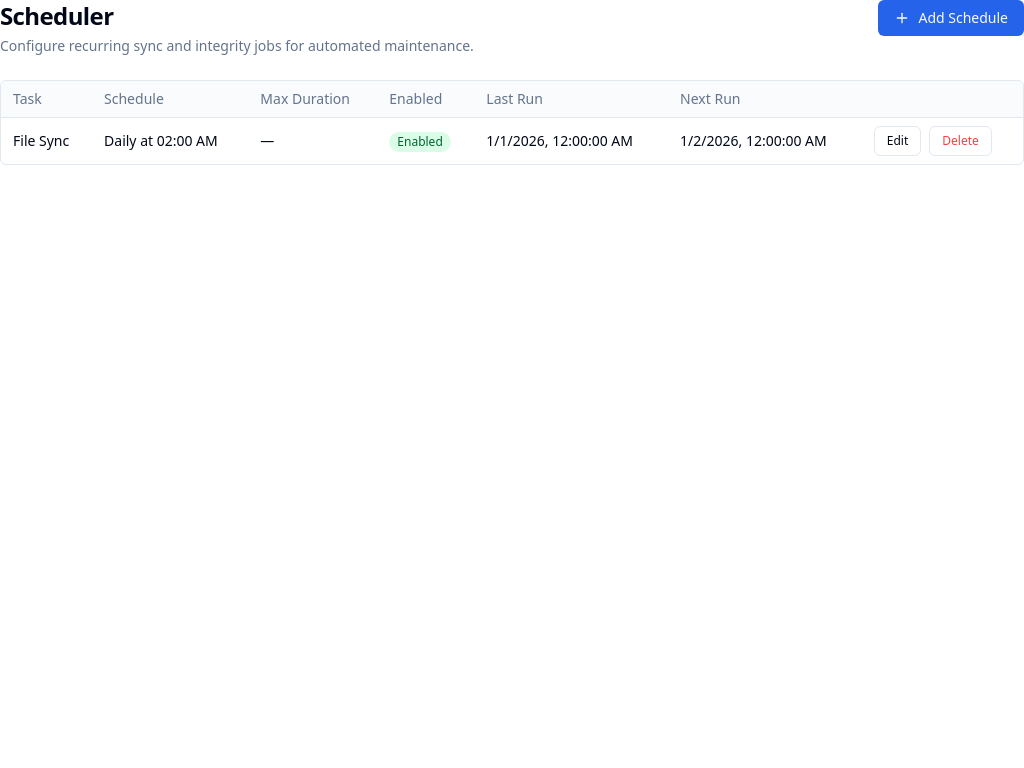
Test: SchedulerPage › converts interval units correctly (2 hours = 7200 seconds)
Expected: the row with test id "schedule-row-1" is shown, x1=1 y1=118 x2=1023 y2=164
Click the button "Add Schedule". click: (951, 18)
box: x1=878 y1=0 x2=1023 y2=36
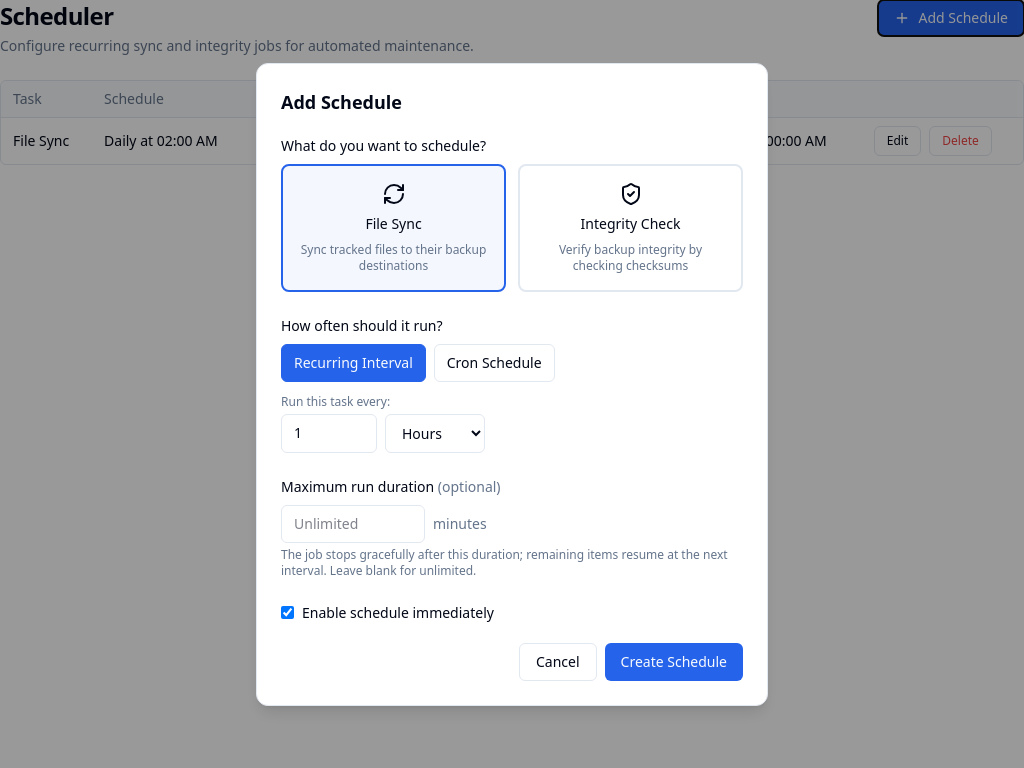
Replace the text in the number field named "Interval value" with "2". click: (329, 433)
box: x1=281 y1=414 x2=377 y2=452
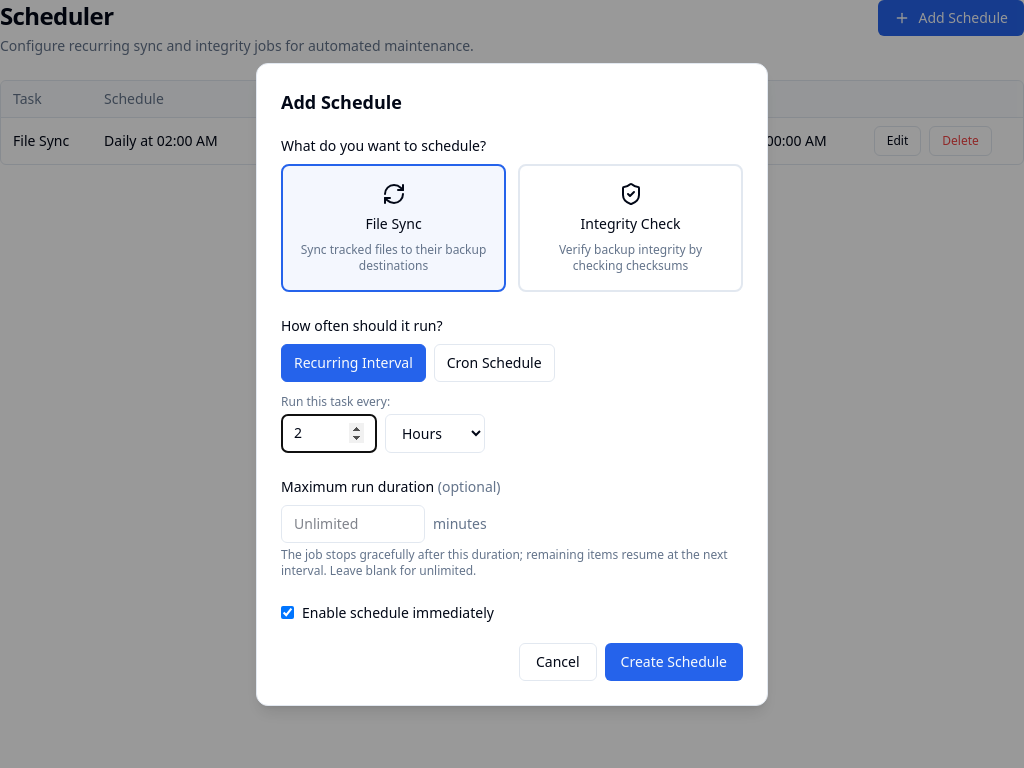
Select "Hours" in the dropdown named "Interval unit". click: (435, 433)
box: x1=385 y1=414 x2=485 y2=452
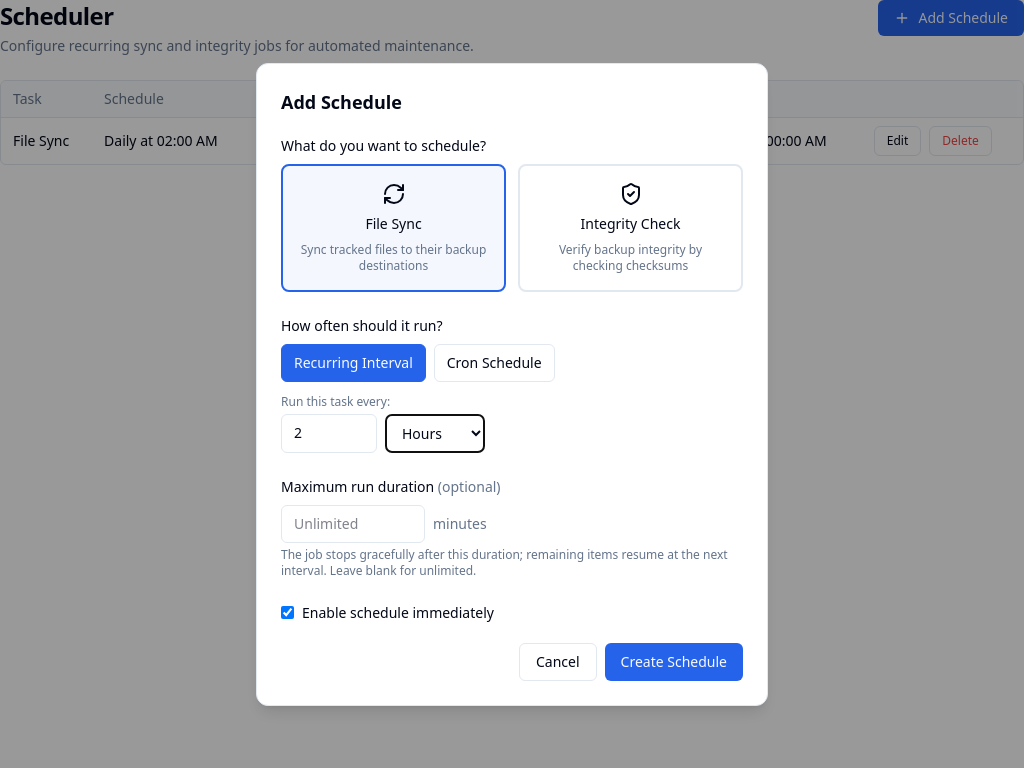
Click the button "Create Schedule". click: (674, 662)
box: x1=605 y1=642 x2=743 y2=680
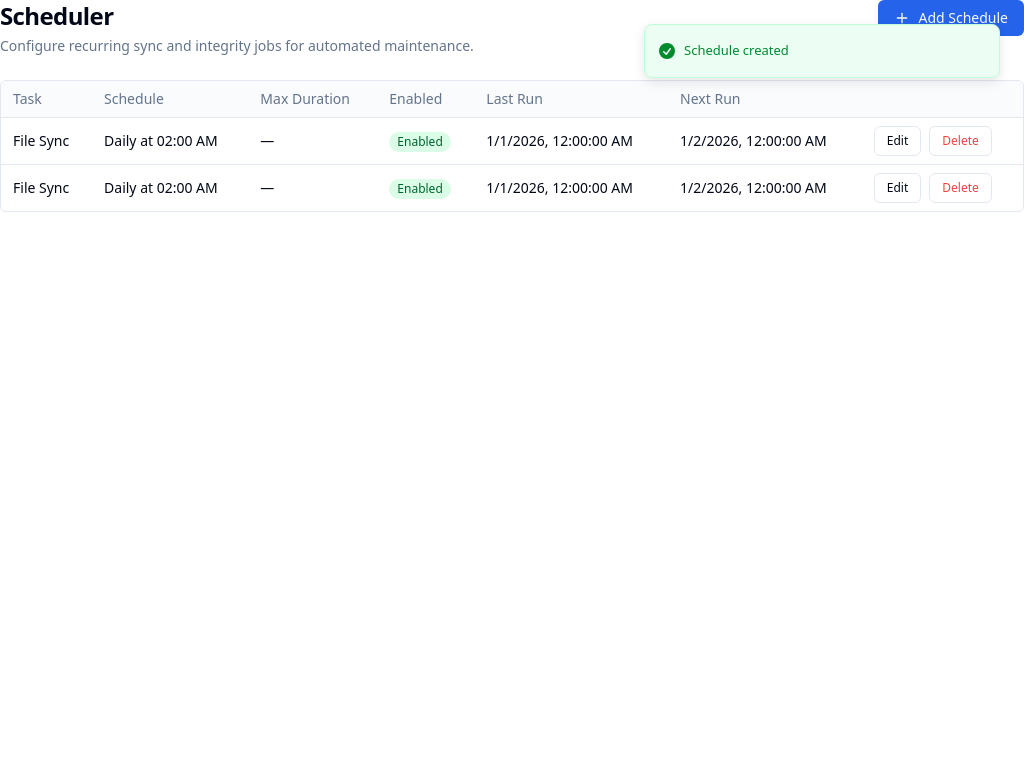
Now the text "Schedule created" is shown, box x1=684 y1=41 x2=789 y2=60
